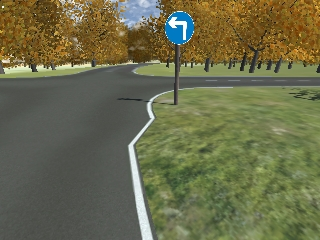left: (166, 11, 195, 43)
